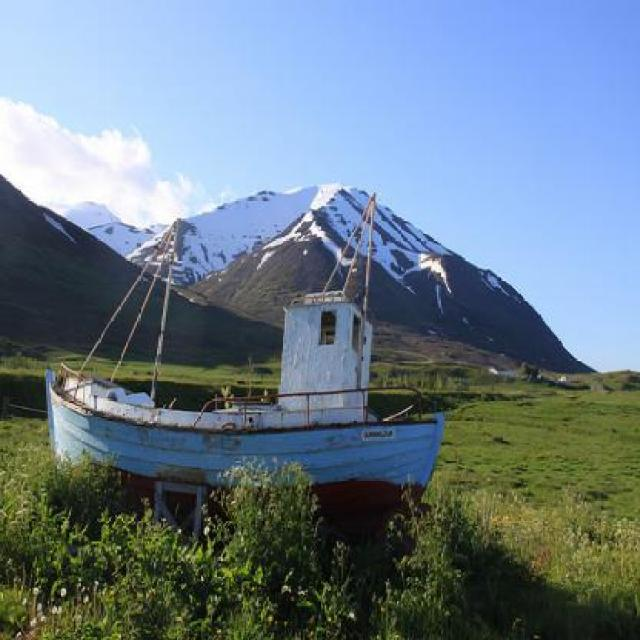ship: (38, 190, 450, 542)
